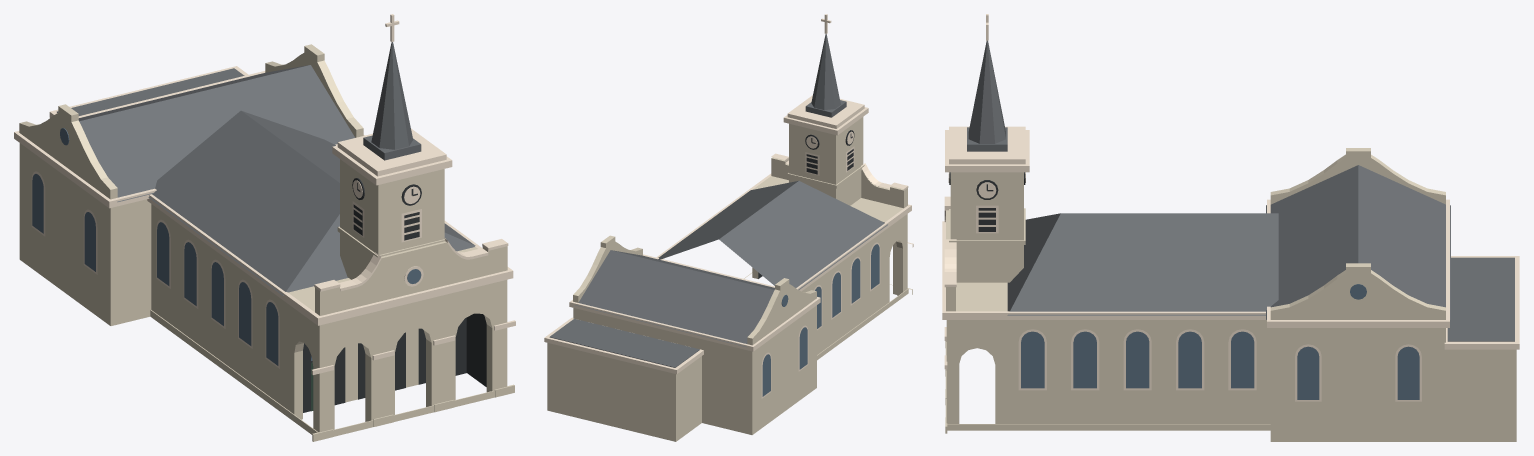
The model's file is nola-our-lady-of-guadalupe.glb.
3 renders of one model, left to right at view 1: azimuth 30°, elevation 25°; view 2: azimuth 150°, elevation 25°; view 3: azimuth 270°, elevation 25°, orthographic. The views are drawn at different scales.
Visible parts, largest first — view 1: Our Lady of Guadalupe Church; view 2: Our Lady of Guadalupe Church; view 3: Our Lady of Guadalupe Church.
Part boxes in pixels (box(x1,y1,x2,y2)): Our Lady of Guadalupe Church: box(14, 14, 515, 441); Our Lady of Guadalupe Church: box(544, 14, 913, 441); Our Lady of Guadalupe Church: box(942, 14, 1519, 441).
Size of the model in its own units: 18.42 by 26.2 by 36.88.
